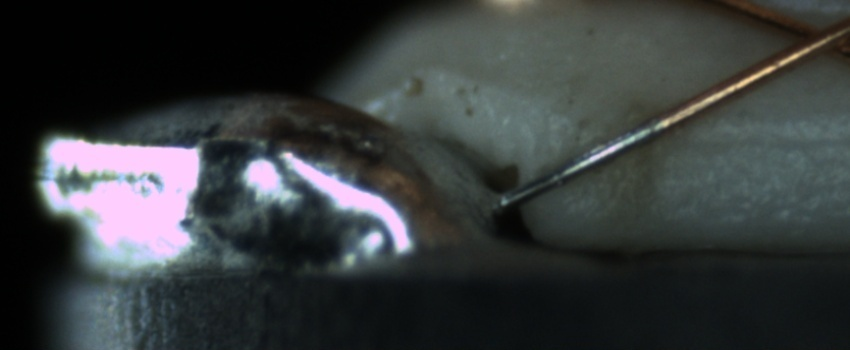CL: (770, 7, 850, 67)
DL: (675, 110, 849, 174)
TS: (501, 115, 668, 209)
